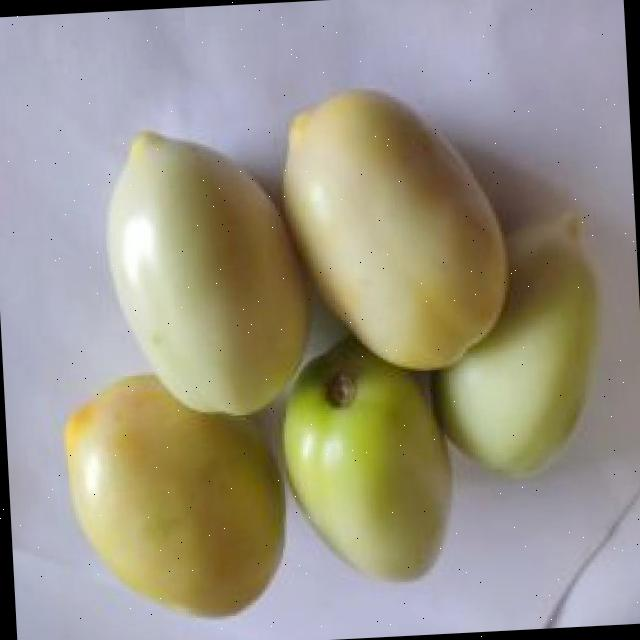tomato: (276, 84, 512, 378), (55, 369, 288, 627), (101, 124, 299, 418), (426, 217, 608, 480), (274, 348, 454, 592)
